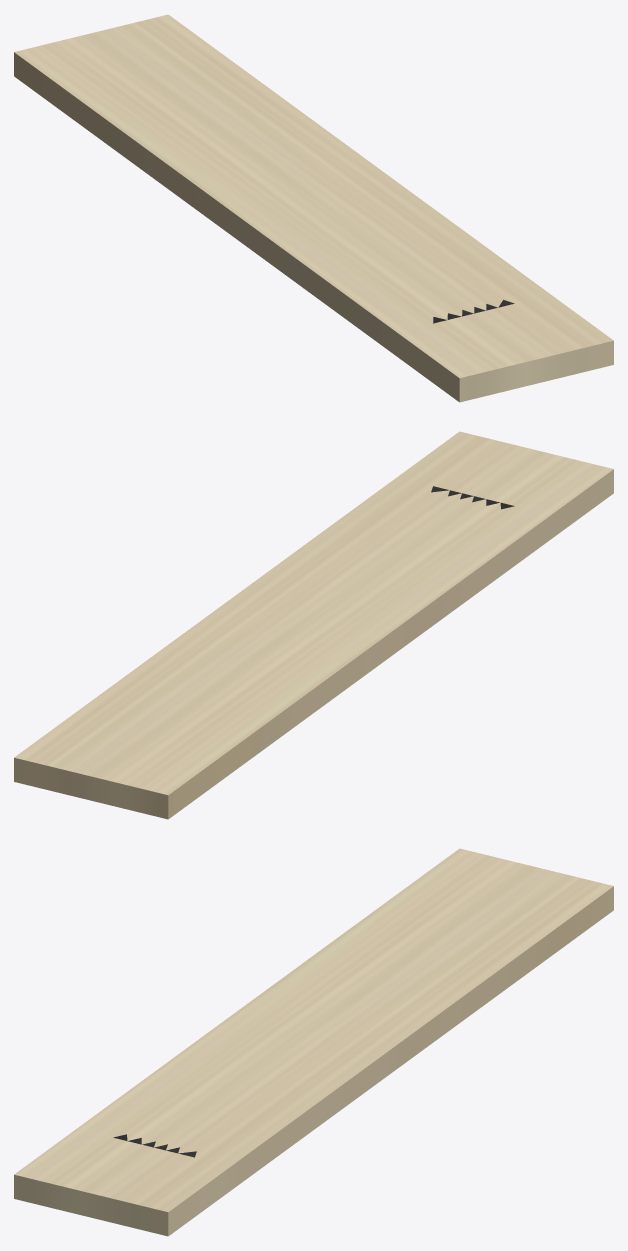
Rendered from PistaBoliche_obj.obj.
3 views of the same model, one above another, from view 1: azimuth 30°, elevation 25°; view 2: azimuth 150°, elevation 25°; view 3: azimuth 330°, elevation 25° (orthographic).
Bounding box in the file's own units: 10 × 1.5 × 50.
